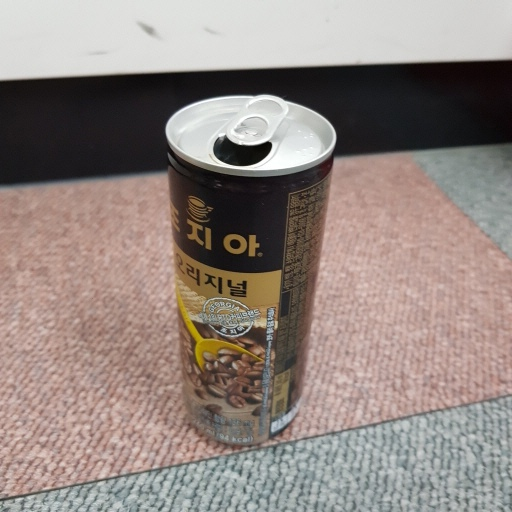Metal_0: (159, 94, 337, 444)
